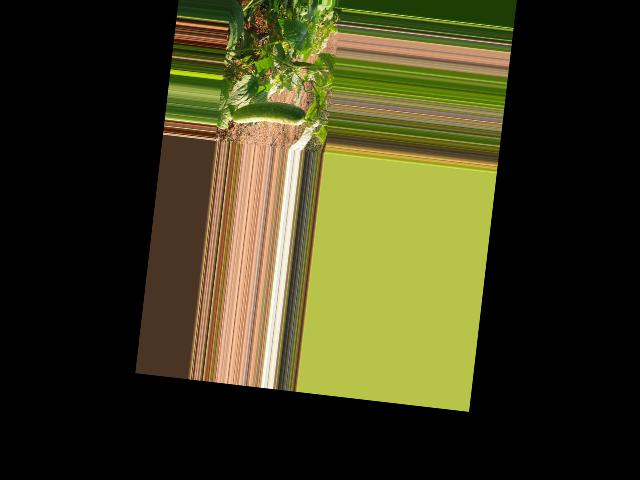cucumber: (231, 97, 306, 130)
